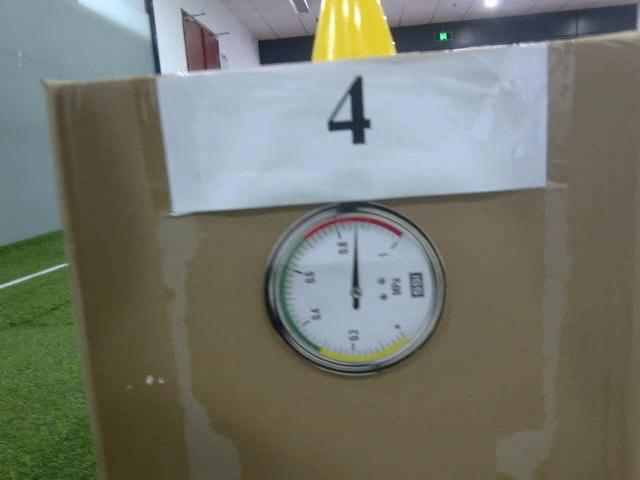4: (324, 76, 375, 147)
Dashboard: (262, 205, 454, 379)
ssi: (406, 270, 427, 301)
yellow_barrel: (305, 0, 402, 64)
